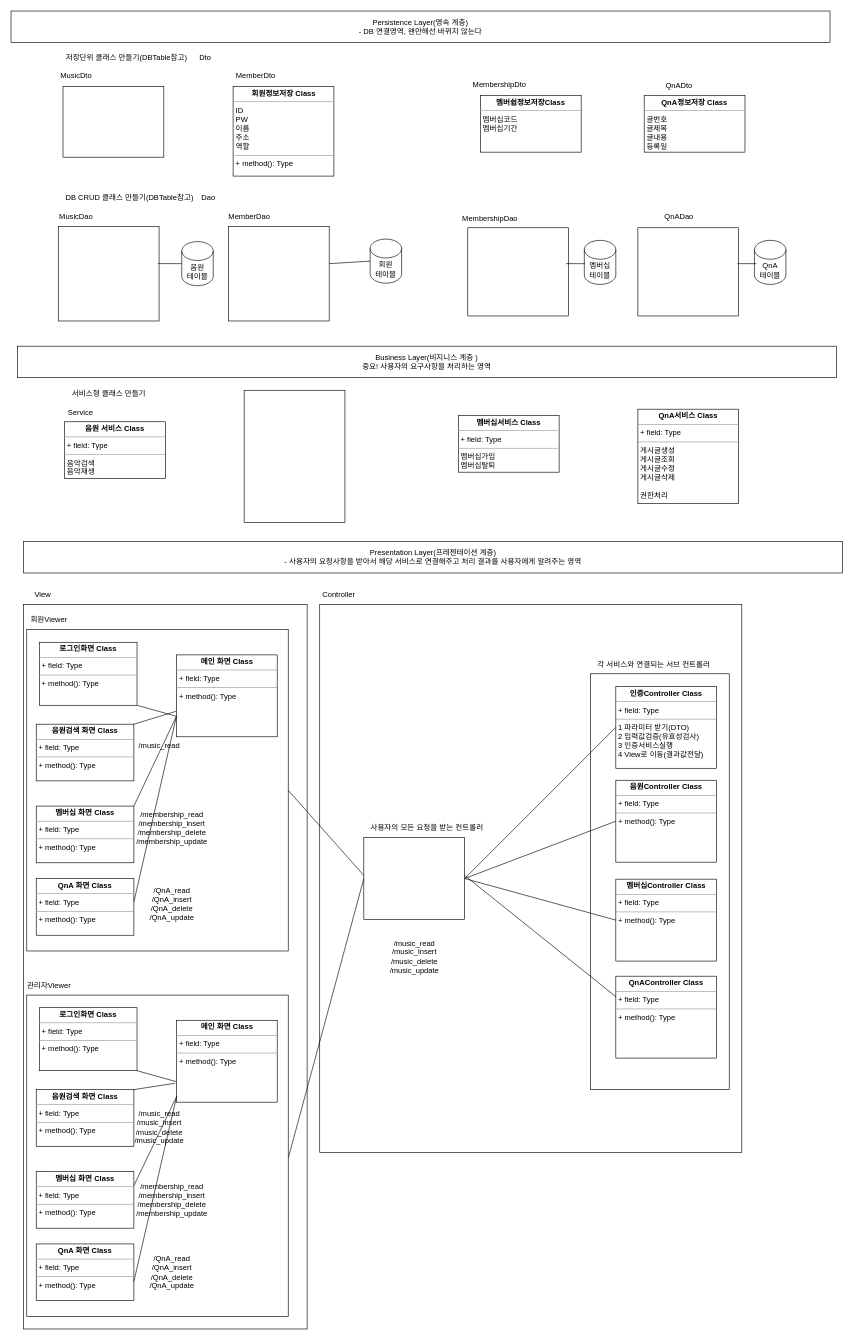
The diagram is 854 pixels wide and 1340 high, and some of its shapes have lost their labels. The shapes that lost their labels are listed below. From the top down, each one's centre as x and y in pixels, then its label:
point 113,121: 음원정보저장 Class 음원명 앨범 아티스트 장르 가사
point 108,273: 음원 CRUD Class + field: Type 전체조회기능 음원정보추가기능 음원정보수정기능 음원정보삭제기능
point 278,273: 회원테이블 CRUD Class + field: Type 회원정보생성 회원정보조회 회원정보수정 회원정보삭제
point 518,271: 멤버십테이블 CRUD Class + field: Type 멤버십가입 멤버십탈퇴 멤버십수정 멤버십조회
point 688,271: QnA테이블 CRUD Class + field: Type 게시글생성 게시글조회 게시글수정 게시글삭제
point 294,456: 인증서비스 Class + field: Type 회원가입 회원조회 회원수정 회원탈퇴 회원 로그인 관리자 로그인 로그아웃 권한처리
point 414,878: FrontController Class + field: Type + method(): Type
